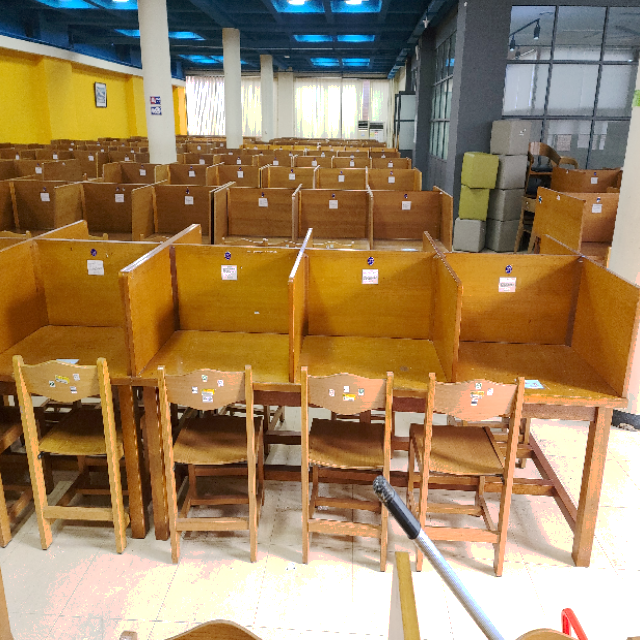empty: (463, 233, 640, 490), (129, 227, 291, 466), (296, 230, 452, 475)
